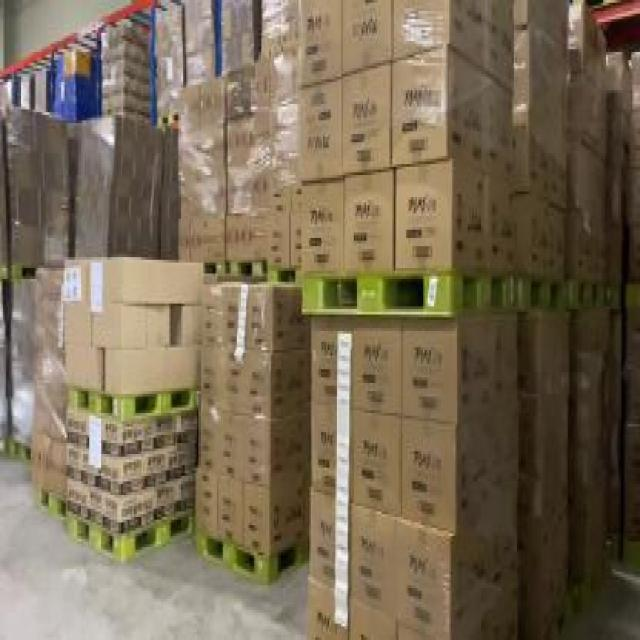box: (298, 3, 638, 637), (9, 260, 200, 552), (100, 2, 302, 274), (198, 276, 308, 580), (0, 95, 157, 262)
